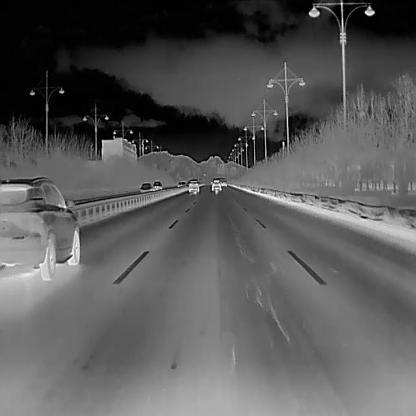car: (0, 174, 80, 280), (187, 179, 200, 194), (210, 179, 222, 193), (138, 181, 153, 192), (151, 181, 162, 190), (219, 179, 227, 186), (177, 180, 182, 187), (181, 180, 186, 185)
